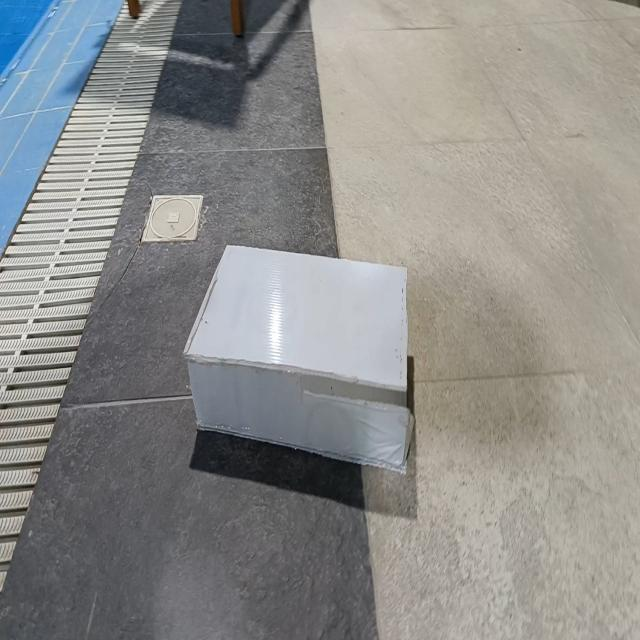Cuboid: (182, 241, 412, 474)
